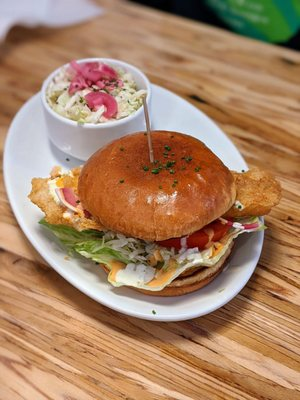sushi: (40, 57, 152, 163)
